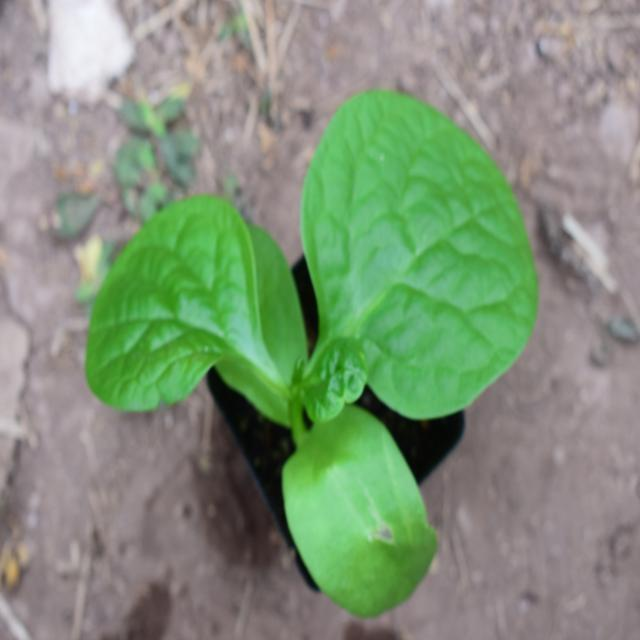Ceylon spinach: (83, 121, 531, 572)
